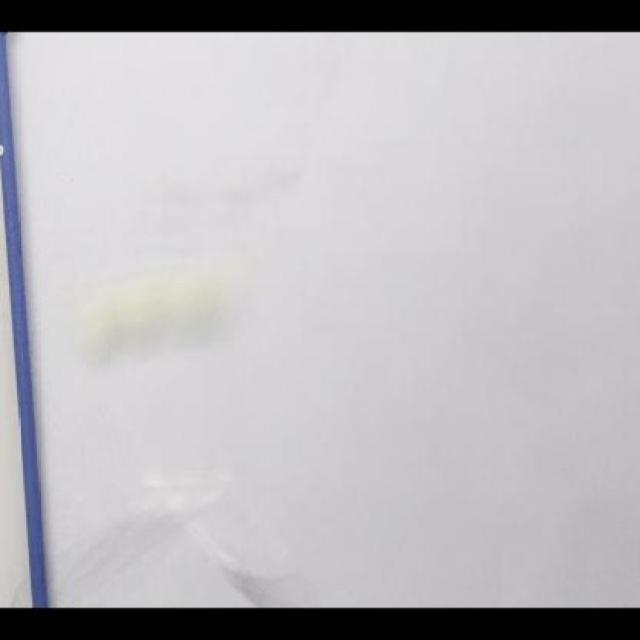baseball: (83, 266, 249, 352)
